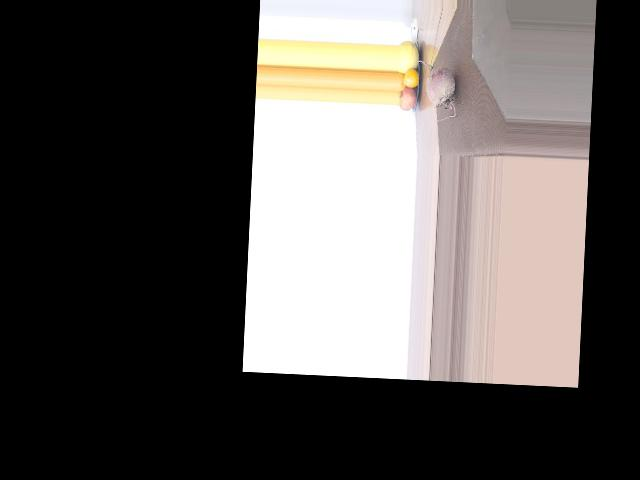beet: (411, 59, 458, 121)
